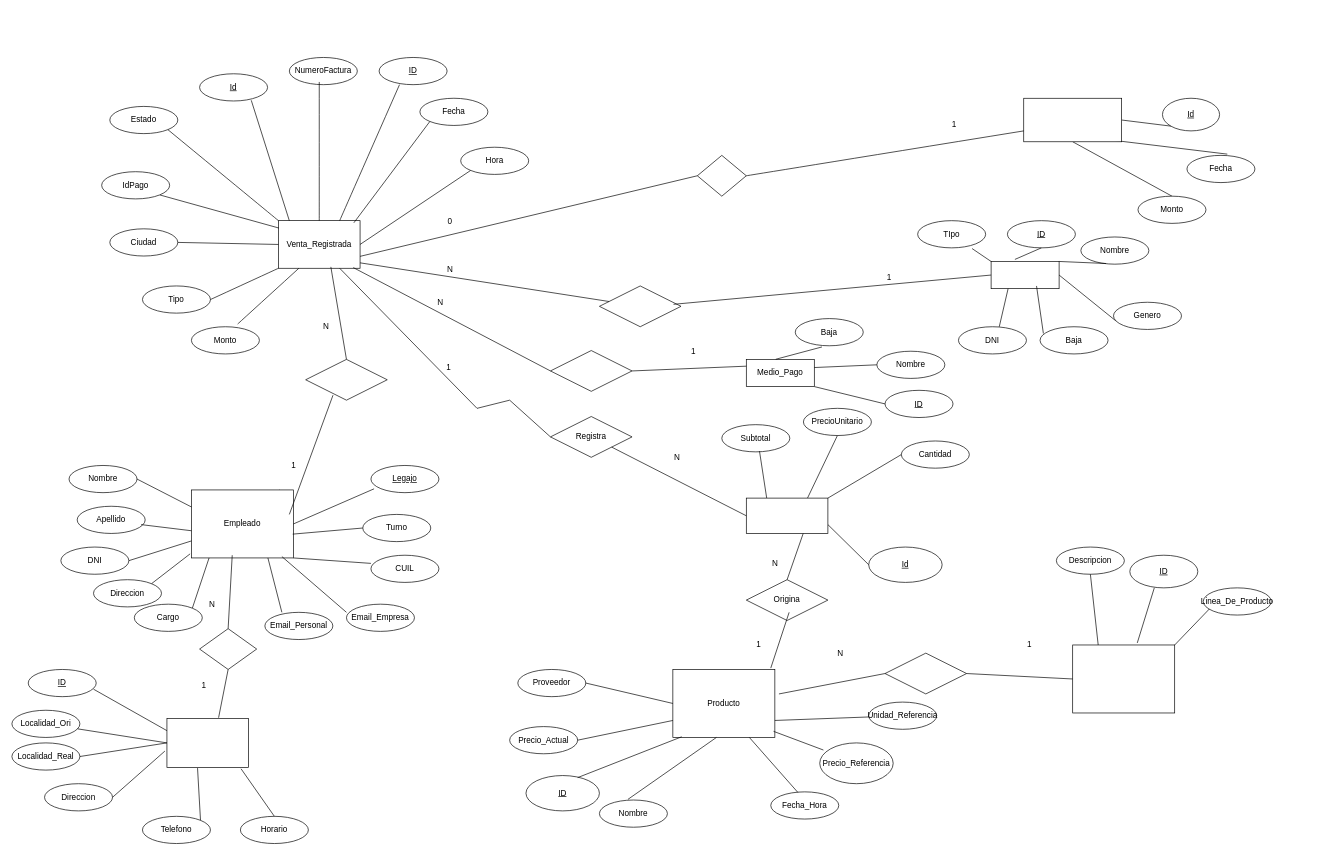
The diagram is 1327 pixels wide and 855 high, and some of its shapes have lost their labels. Here are the shapes that lost their labels. From the top down, the centre of each, then its label:
pixel 1072 120: Nota_De_Credito
pixel 721 175: Genera
pixel 1024 275: Cliente
pixel 640 306: Tiene
pixel 346 379: Administra
pixel 591 370: Utiliza
pixel 787 515: Detalle_Venta
pixel 228 648: Trabaja_En
pixel 925 673: Se_Identifica
pixel 1123 678: Categoria
pixel 207 742: Sucursal
